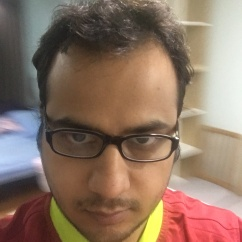glasses: (39, 121, 185, 162)
